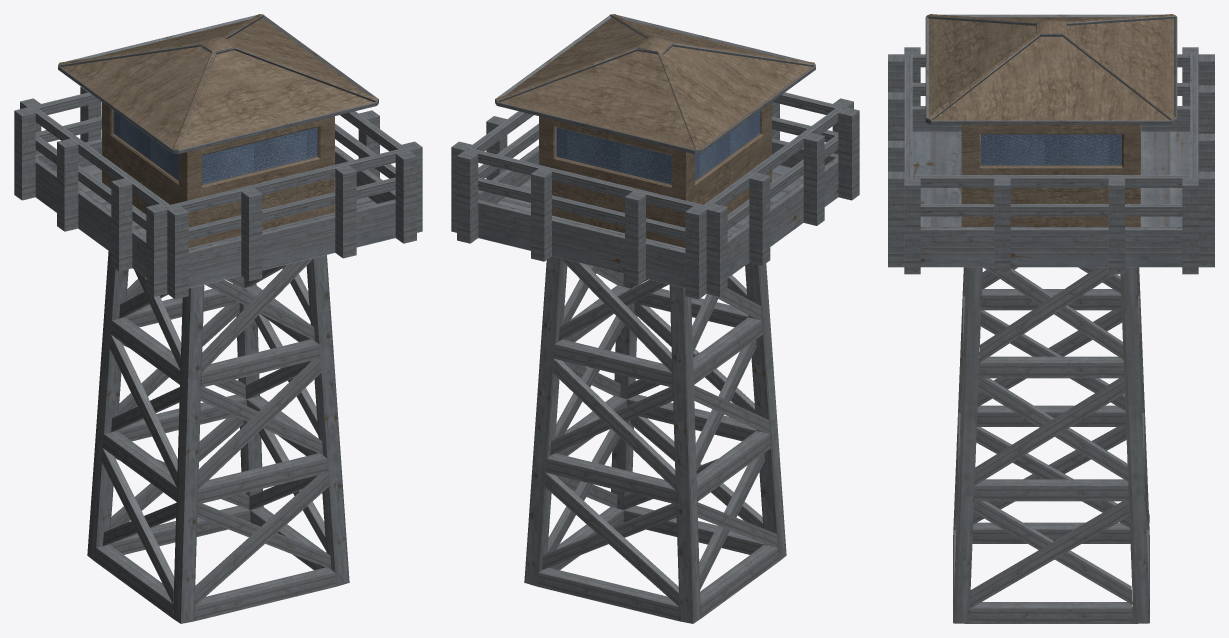
Rendered from Watch Tower.fbx.
The picture shows the model from 3 angles, left to right: view 1: azimuth 30°, elevation 25°; view 2: azimuth 150°, elevation 25°; view 3: azimuth 270°, elevation 25°; orthographic projection. The views are drawn at different scales.
Parts seen in each view (by area): view 1: Parte_de_Baixo1_group3, Chao1, Teto, Caban; view 2: Parte_de_Baixo1_group3, Chao1, Teto, Caban; view 3: Parte_de_Baixo1_group3, Chao1, Teto, Caban.
Part boxes in pixels (x1=…): Parte_de_Baixo1_group3: x1=87, y1=251, x2=349, y2=623; Chao1: x1=14, y1=86, x2=422, y2=299; Teto: x1=58, y1=14, x2=378, y2=154; Caban: x1=102, y1=102, x2=334, y2=247; Parte_de_Baixo1_group3: x1=524, y1=256, x2=786, y2=623; Chao1: x1=451, y1=92, x2=859, y2=299; Teto: x1=495, y1=14, x2=815, y2=154; Caban: x1=539, y1=102, x2=771, y2=247; Parte_de_Baixo1_group3: x1=953, y1=267, x2=1149, y2=623; Chao1: x1=888, y1=47, x2=1214, y2=274; Teto: x1=925, y1=14, x2=1177, y2=124; Caban: x1=961, y1=124, x2=1141, y2=226.
Bounding box in the file's own units: 20 × 37.71 × 20.
